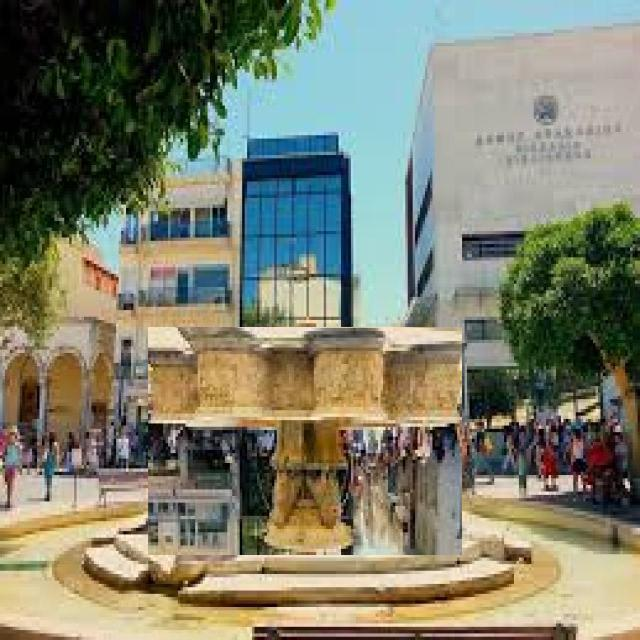Liontaria: (149, 328, 463, 556)
